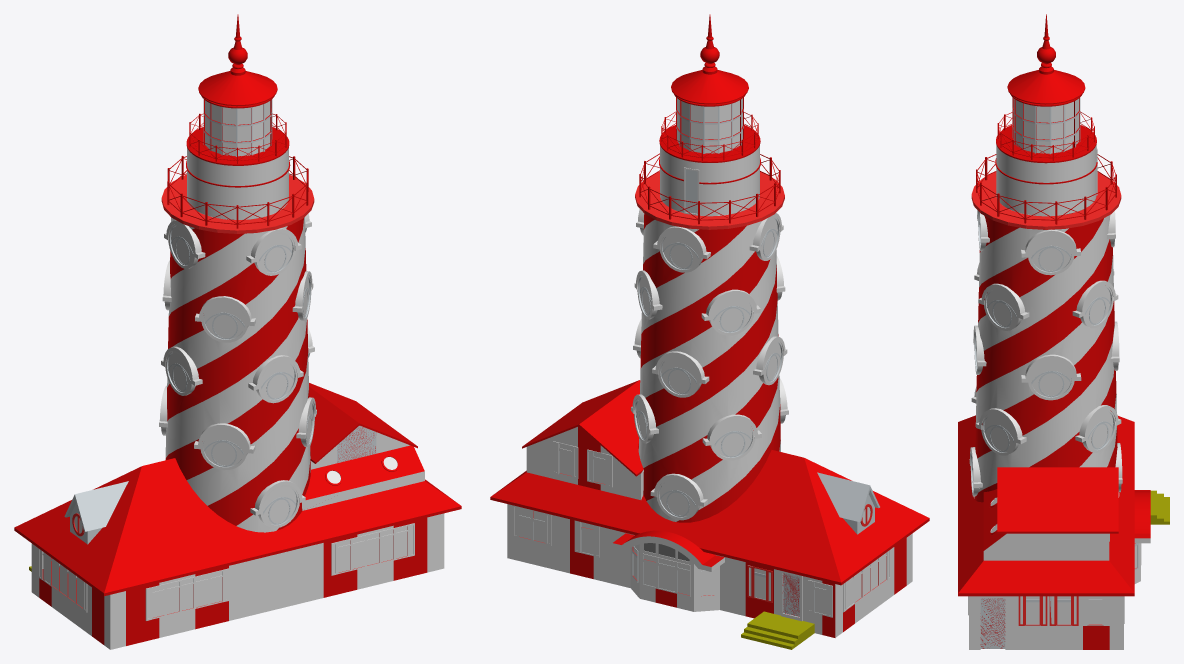
File: PoolesLightHouse_merged.fbx
3 renders of one model, left to right at view 1: azimuth 30°, elevation 25°; view 2: azimuth 150°, elevation 25°; view 3: azimuth 270°, elevation 25°, orthographic.
Visible parts, largest first — view 1: Doors; view 2: Doors; view 3: Doors.
Part boxes in pixels (x1,y1,x2,y2): Doors: [14, 14, 461, 649]; Doors: [490, 14, 929, 649]; Doors: [958, 14, 1169, 649].
Size of the model in its own units: 144 by 219 by 75.46.
